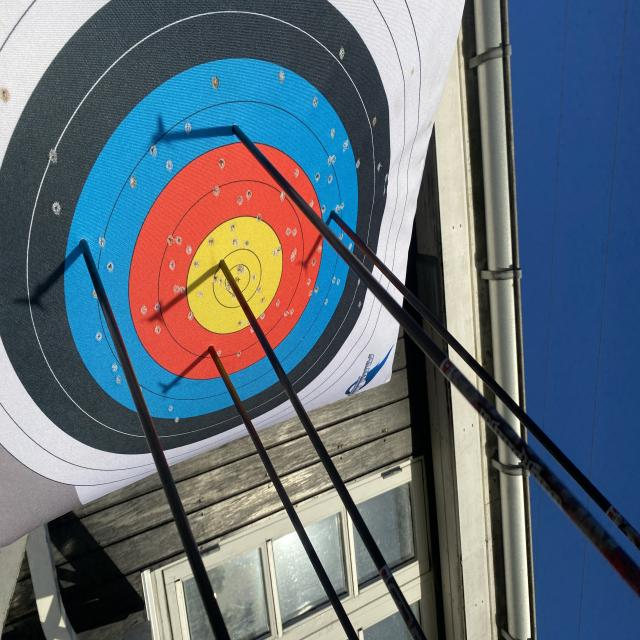Arrow_Blue: (71, 220, 101, 266), (218, 113, 256, 148), (323, 198, 349, 235)
Arrow_Red: (203, 334, 225, 372)
Arrow_Yellow: (216, 254, 232, 289)
